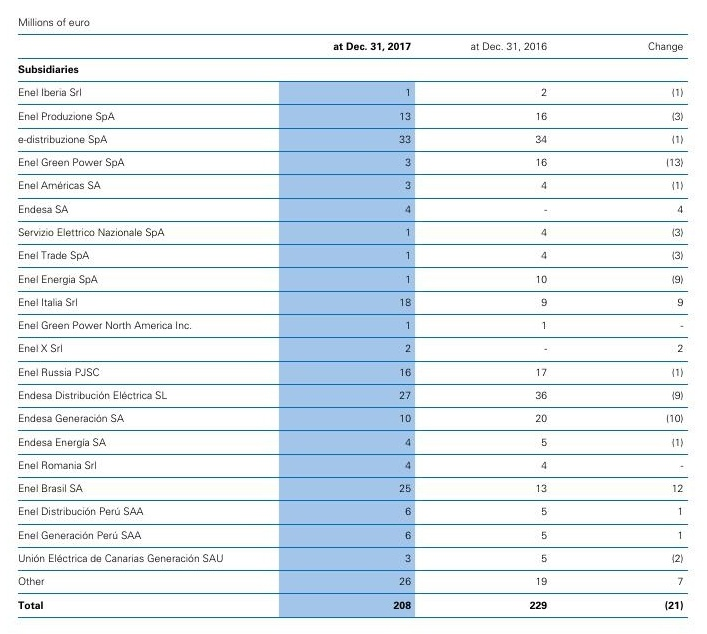table: (0, 0, 707, 634)
